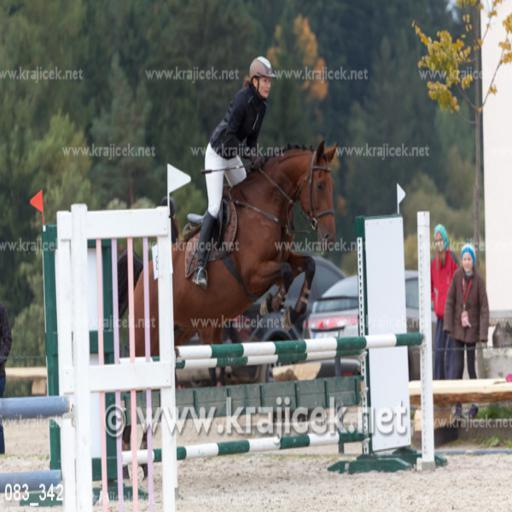horse: (112, 137, 340, 480)
